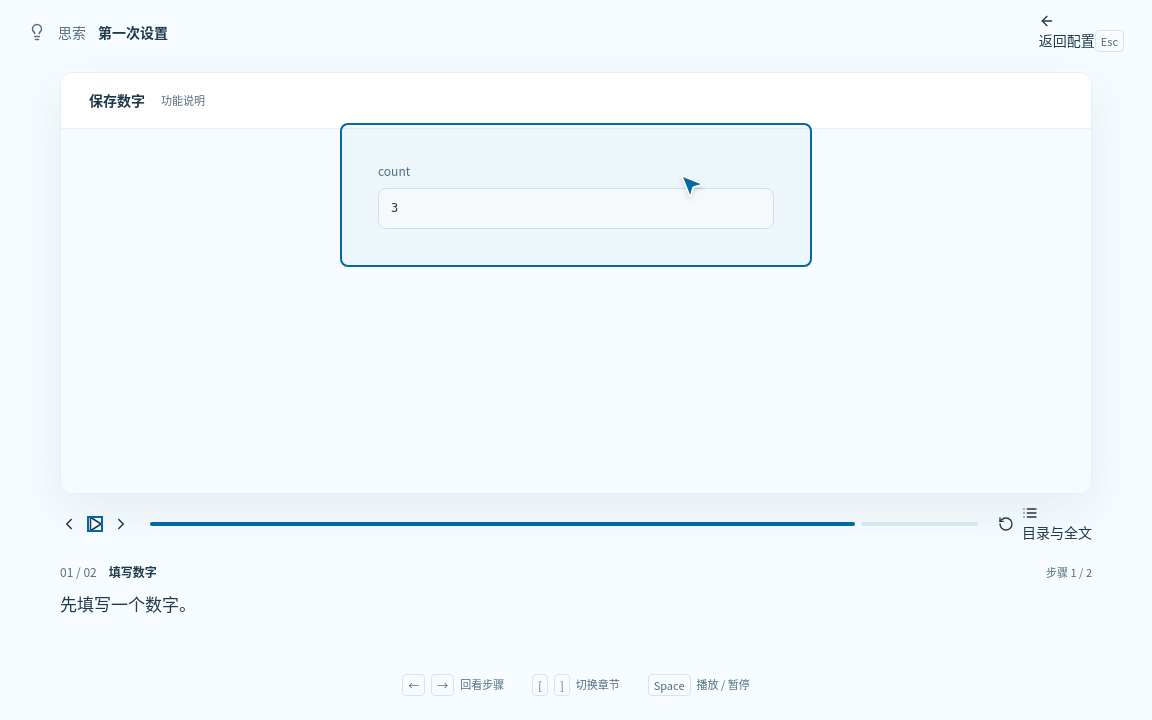
思索说明书播放器 › 暂停后不推进，恢复播放按步骤推进，并可按章节回看
Click the button named "播放演示" at (95, 524), box [86,515,104,533]
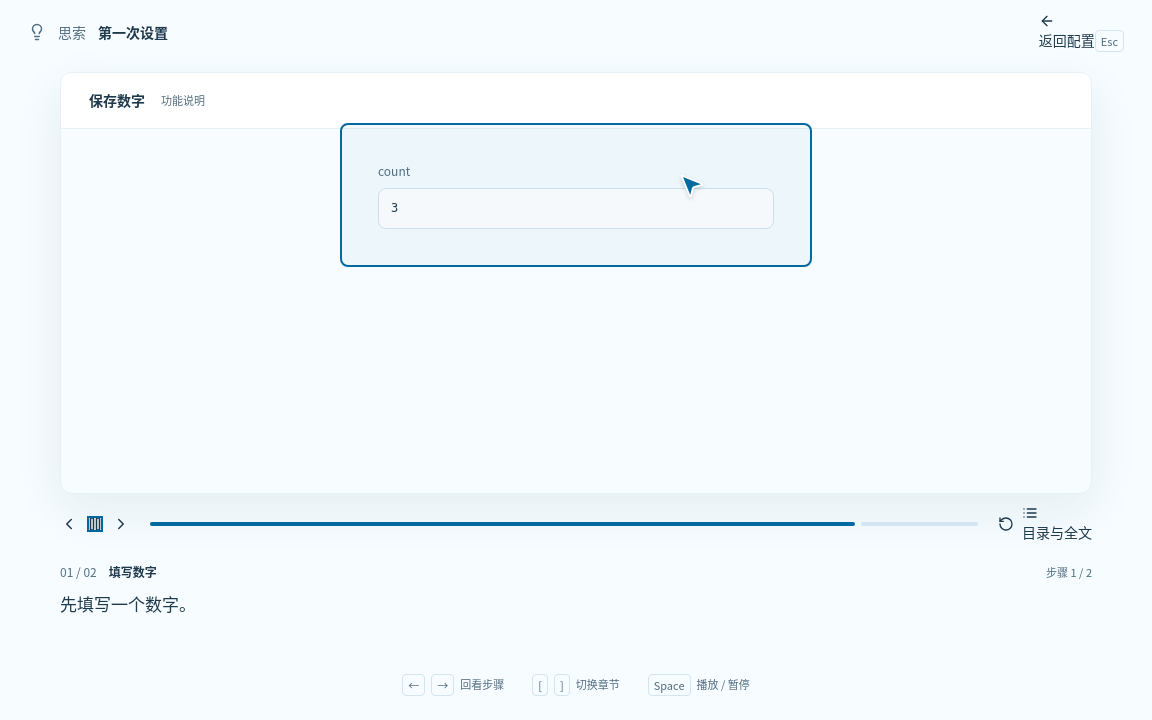
Click the button named "暂停演示" at (95, 524), box [86,515,104,533]
Wait 9000 ms
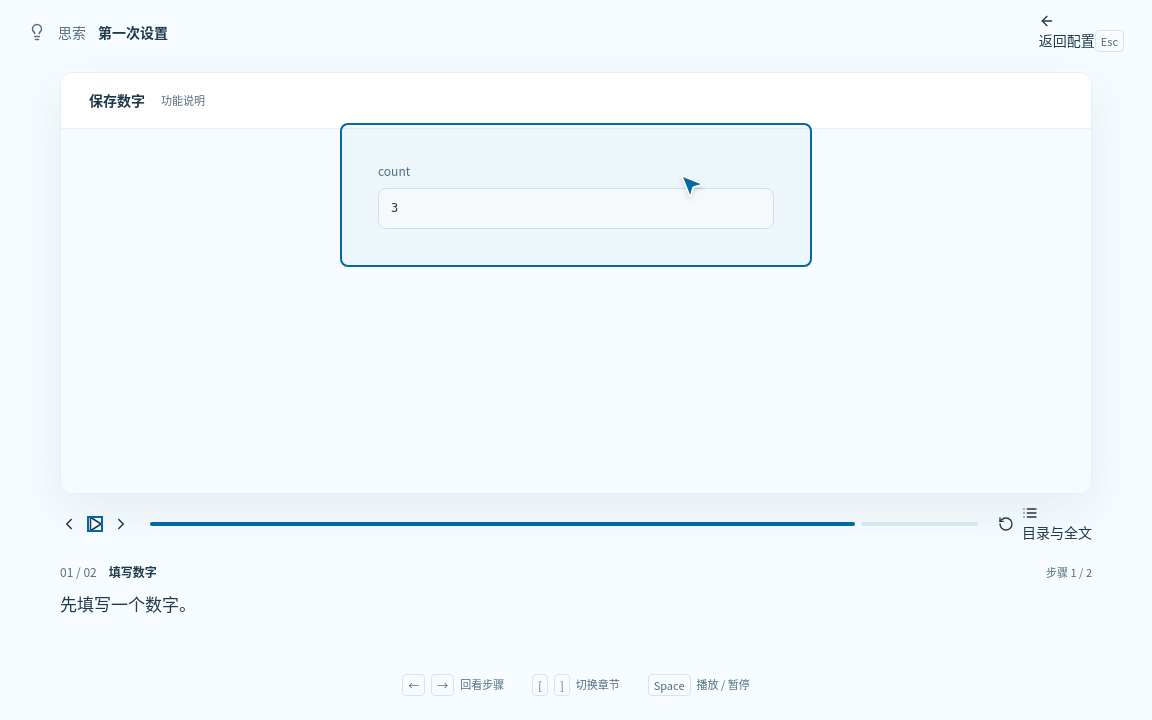
Check: the text "先填写一个数字。" is shown, box [60,591,196,616]
Click the button named "播放演示" at (95, 524), box [86,515,104,533]
Wait 4000 ms
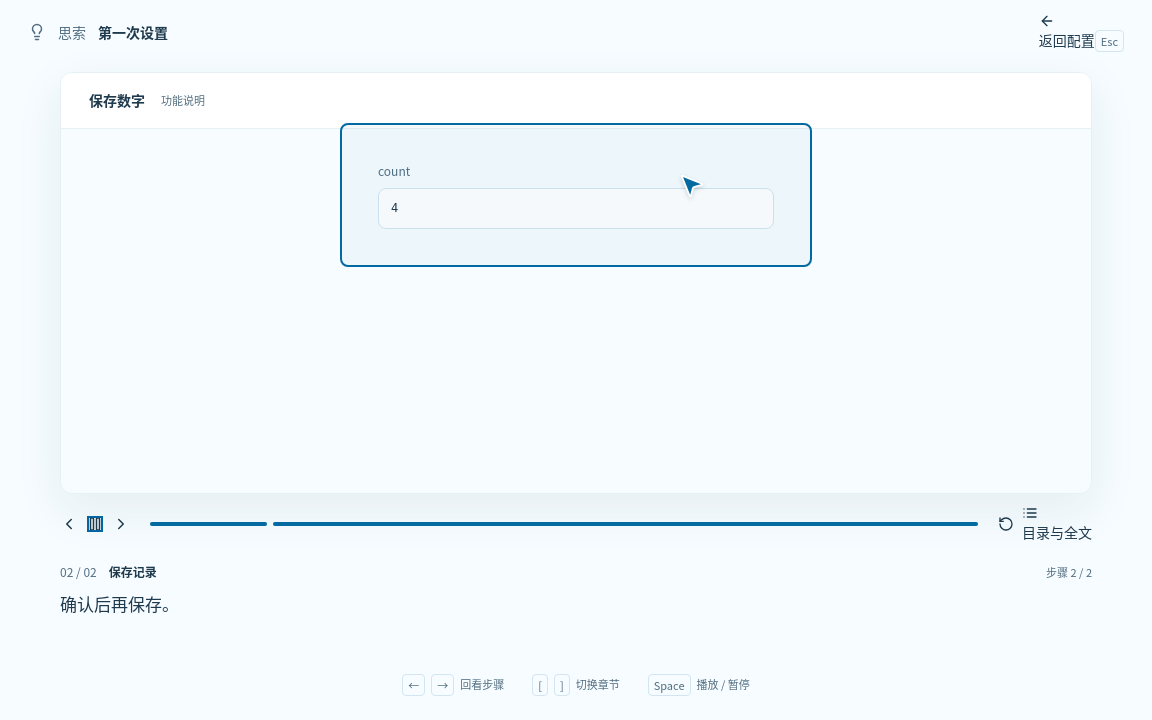
Check: the text "确认后再保存。" is shown, box [60,591,179,616]
Click the button named "01 填写数字" at (209, 524), box [150,502,267,546]
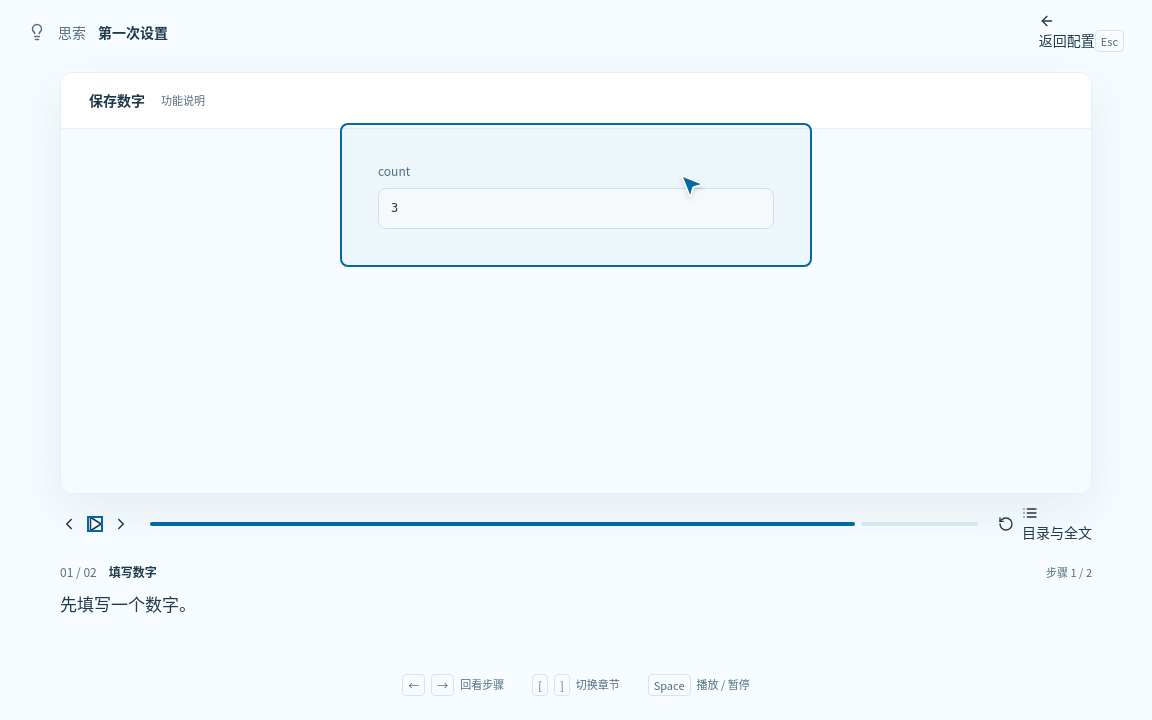
Check: the text "先填写一个数字。" is shown, box [60,591,196,616]
